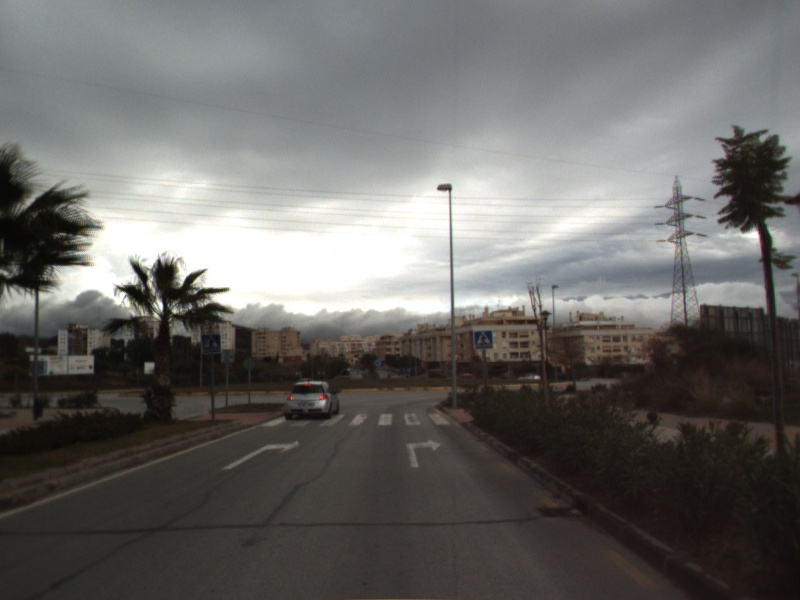RIGHT: (219, 438, 301, 472), (404, 437, 443, 470)
